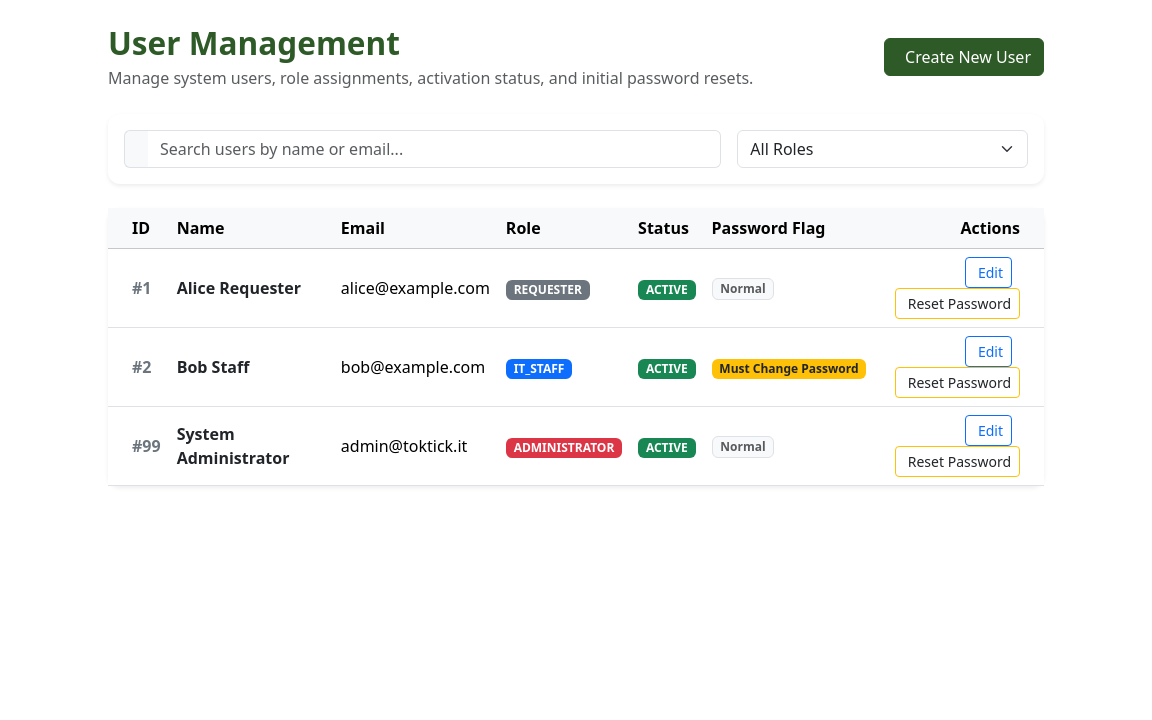
Test case: UserManagement Component Suite (UserManagement.test.tsx) › handles backend safety guard error when attempting self-deactivation in Edit modal
Expected: the table with test id "admin-user-table" is shown, [108, 208, 1044, 486]
Step 1. Click the button with test id "edit-user-btn-99" → {"x": 988, "y": 430}, box [965, 415, 1012, 446]
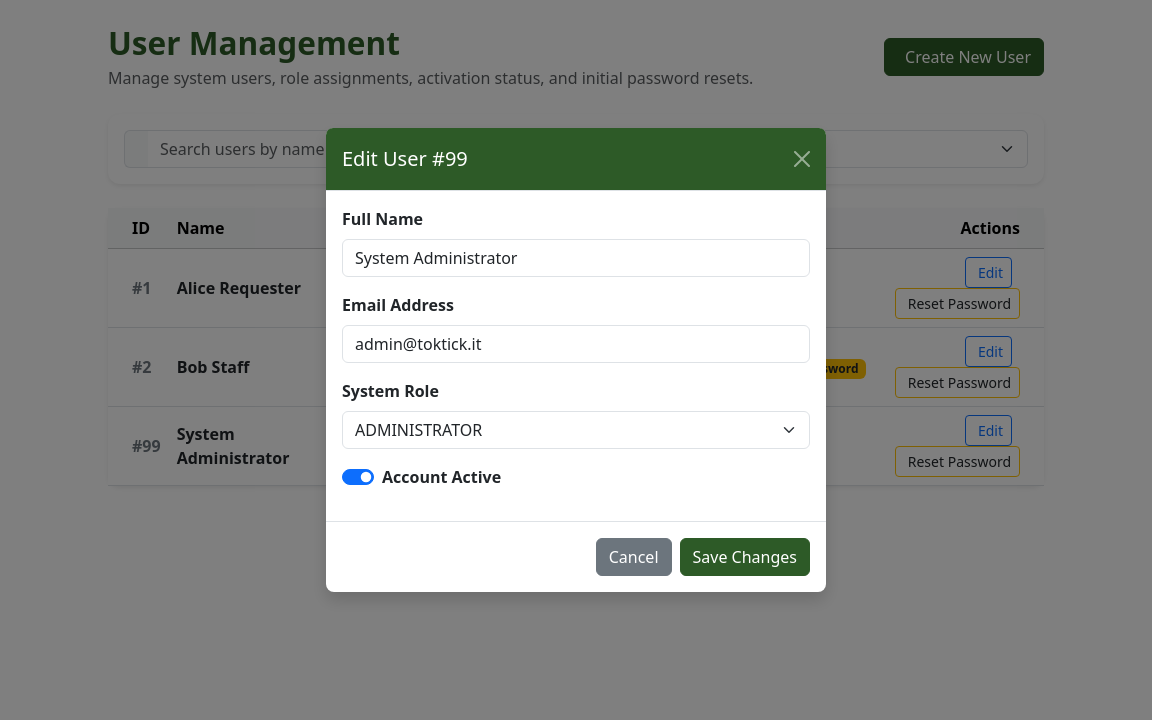
Result: the element with test id "edit-user-modal" is shown
Step 2. Click the checkbox with test id "user-form-active" → {"x": 358, "y": 477}, box [342, 469, 374, 485]
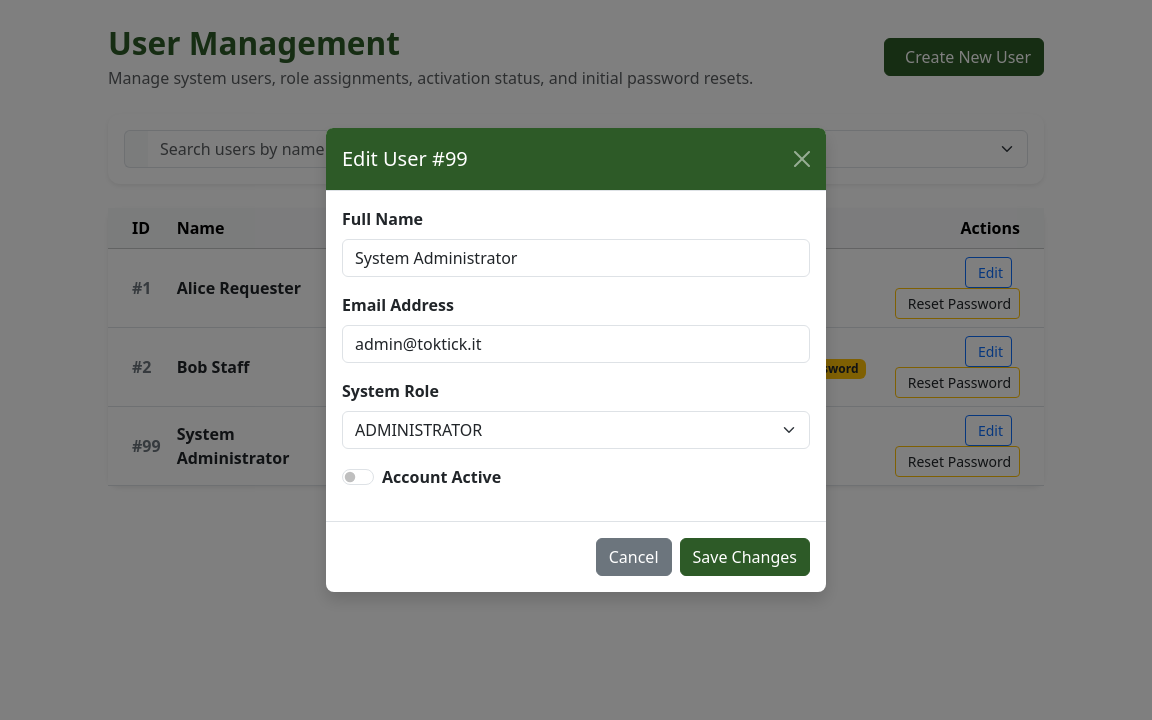
Step 3. Click the button with test id "submit-user-btn" → {"x": 745, "y": 557}, box [680, 538, 810, 576]
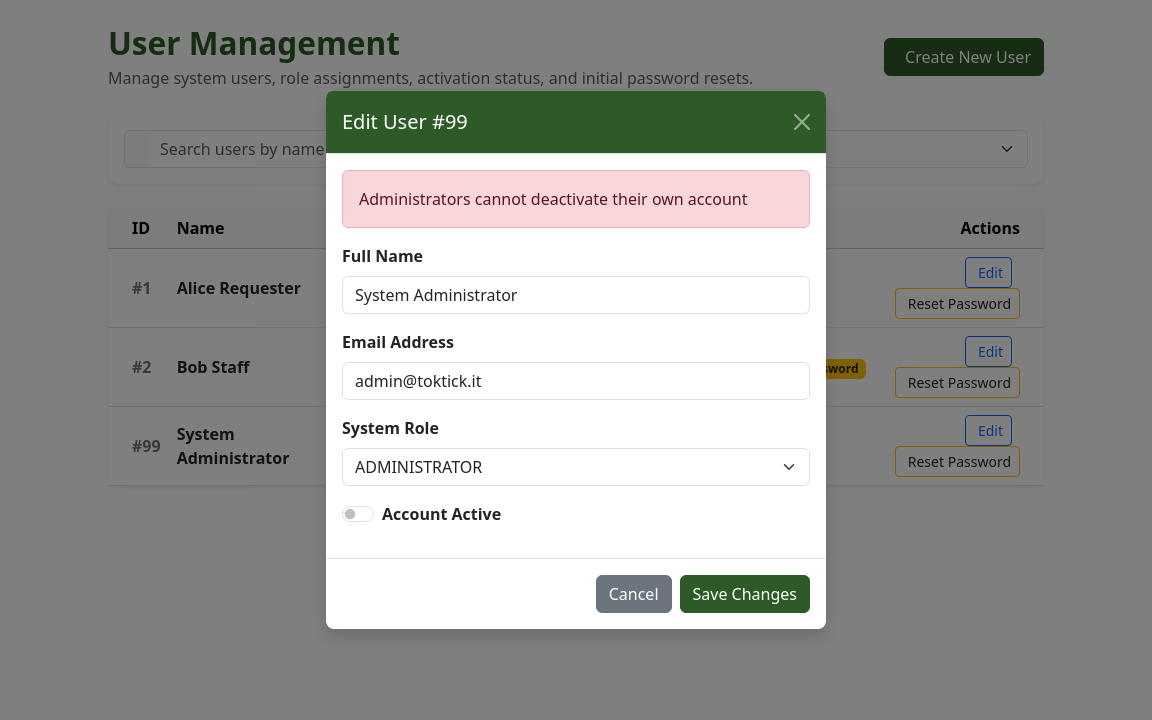
Result: the message with test id "admin-error-alert" reads "Administrators cannot deactivate their own account" at [359, 188, 747, 210]
